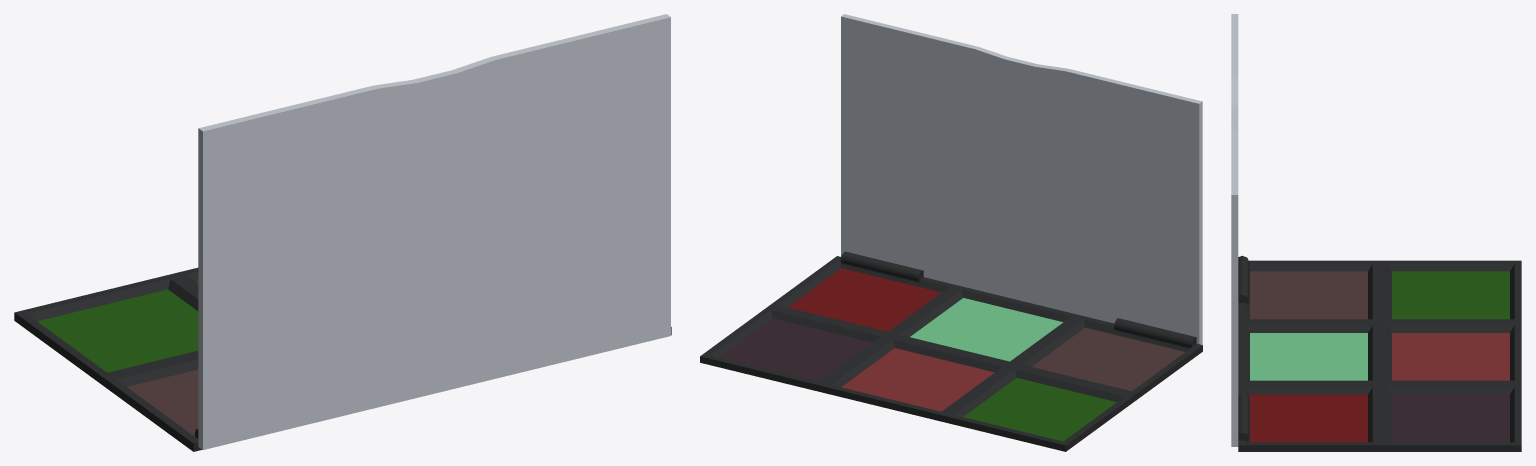
The model's file is make_up_pallete_open.glb.
3 views of the same model, side by side, from view 1: azimuth 30°, elevation 25°; view 2: azimuth 150°, elevation 25°; view 3: azimuth 270°, elevation 25° (orthographic). The views are drawn at different scales.
Parts seen in each view (by area): view 1: make up_pallete_open.004; view 2: make up_pallete_open.004; view 3: make up_pallete_open.004.
Part boxes in pixels (x1=…): make up_pallete_open.004: x1=14, y1=14, x2=671, y2=451; make up_pallete_open.004: x1=700, y1=14, x2=1202, y2=451; make up_pallete_open.004: x1=1231, y1=14, x2=1521, y2=451.
Bounding box in the file's own units: 24.41 × 15.74 × 16.24.
2 materials, 2 textured.
